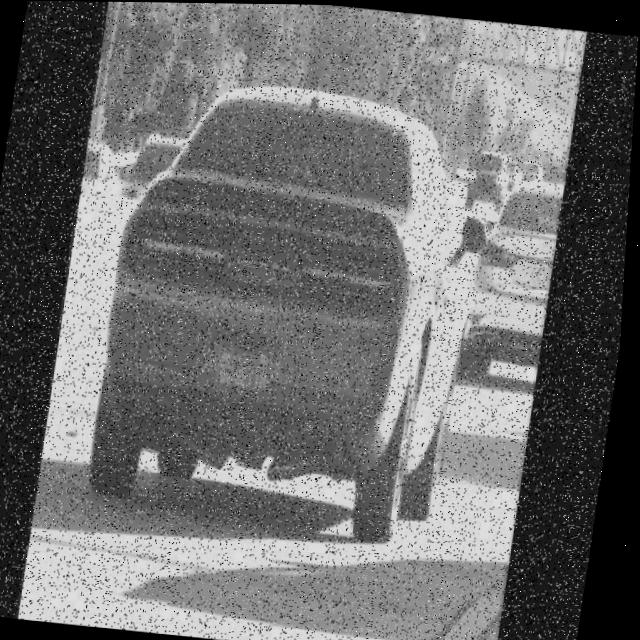LicensePlate: (219, 346, 281, 404), (528, 261, 555, 292)
